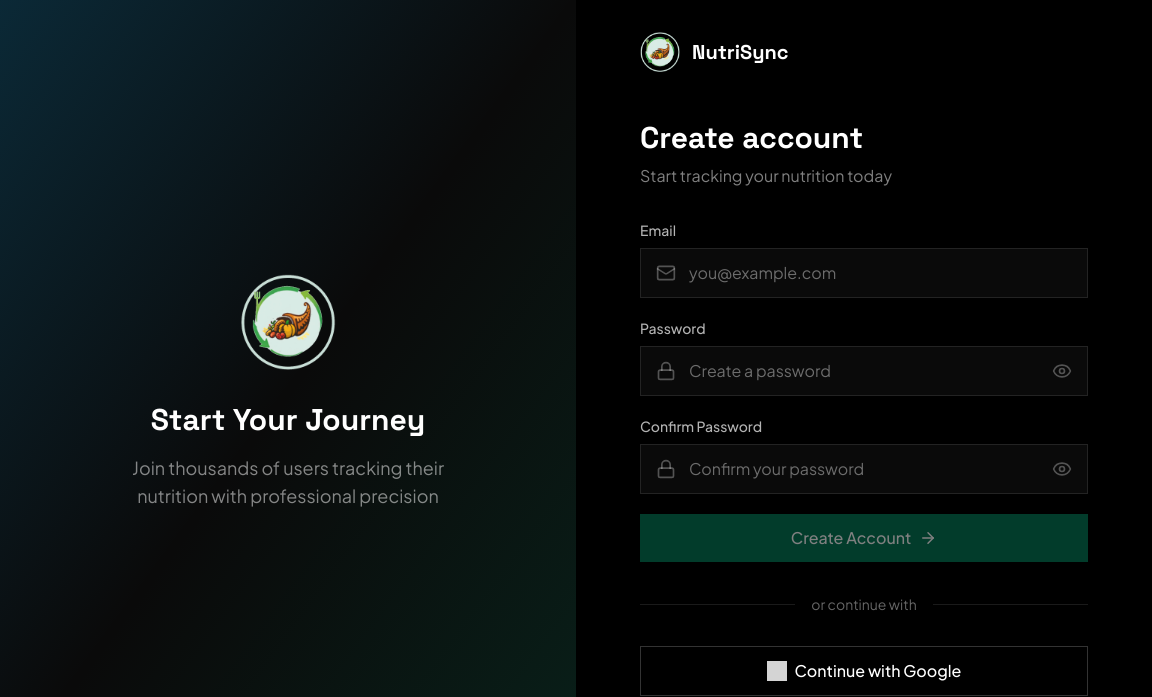
Scenario: Register › handles successful registration
In the field with placeholder "you@example.com": coordinates (864, 273) [640,248,1088,298], type "test@example.com"
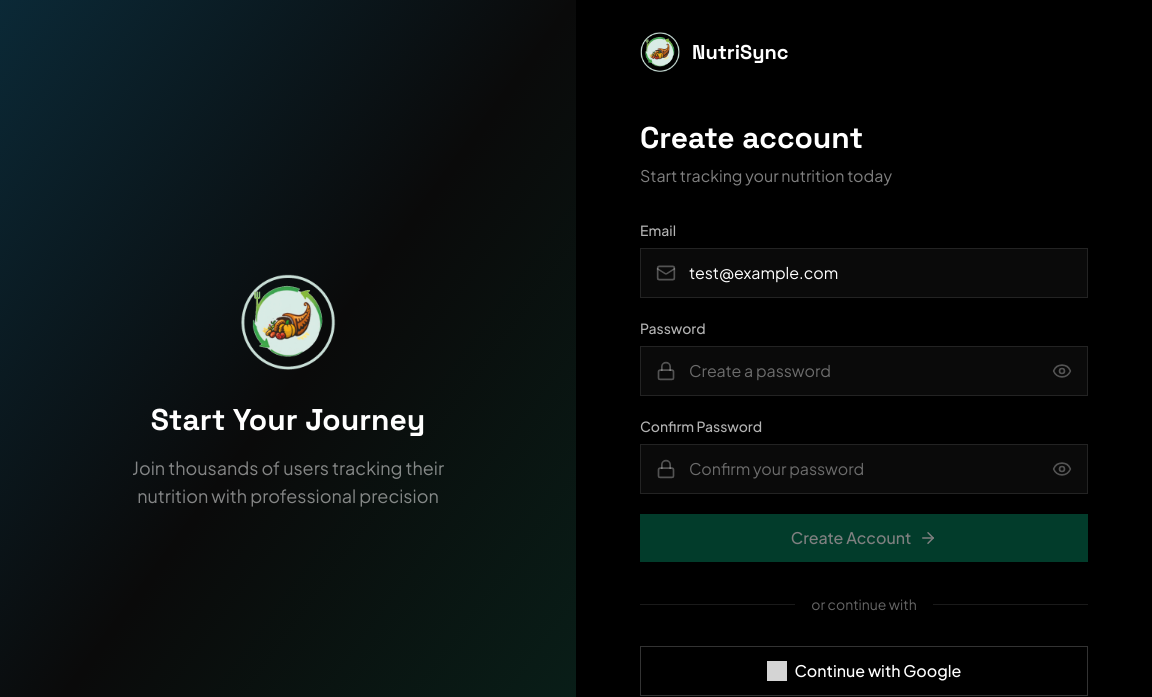
In the password field with placeholder "Create a password": coordinates (864, 371) [640,346,1088,396], type "ValidPass123!"
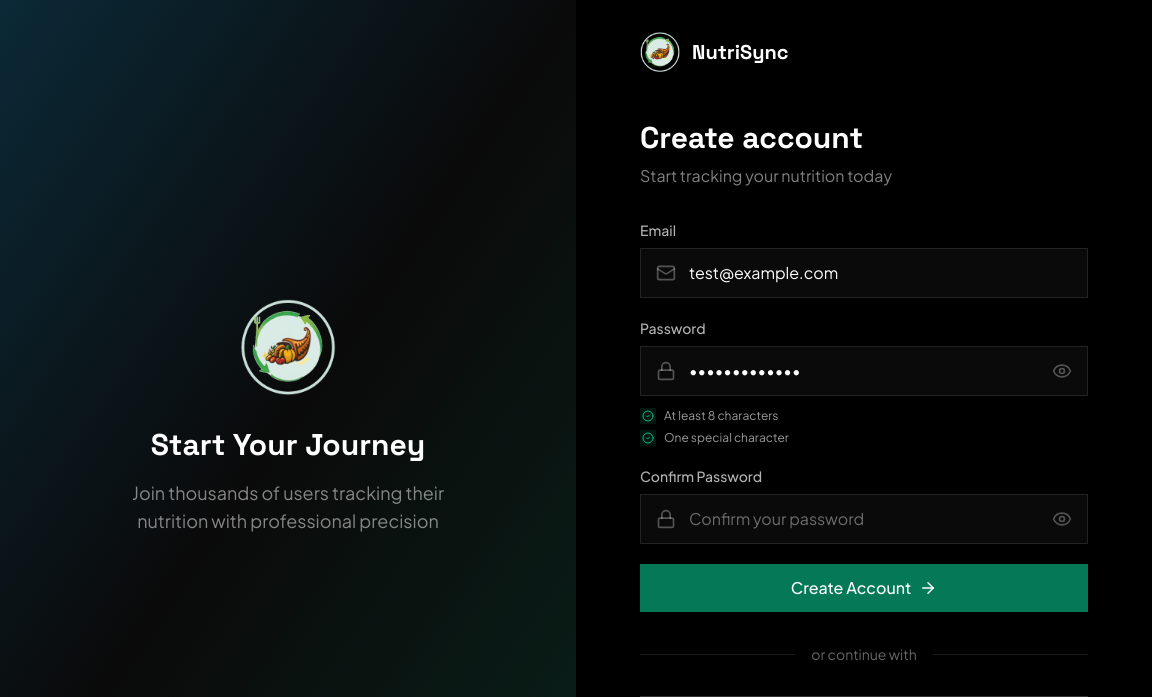
In the password field with placeholder "Confirm your password": coordinates (864, 519) [640,494,1088,544], type "ValidPass123!"
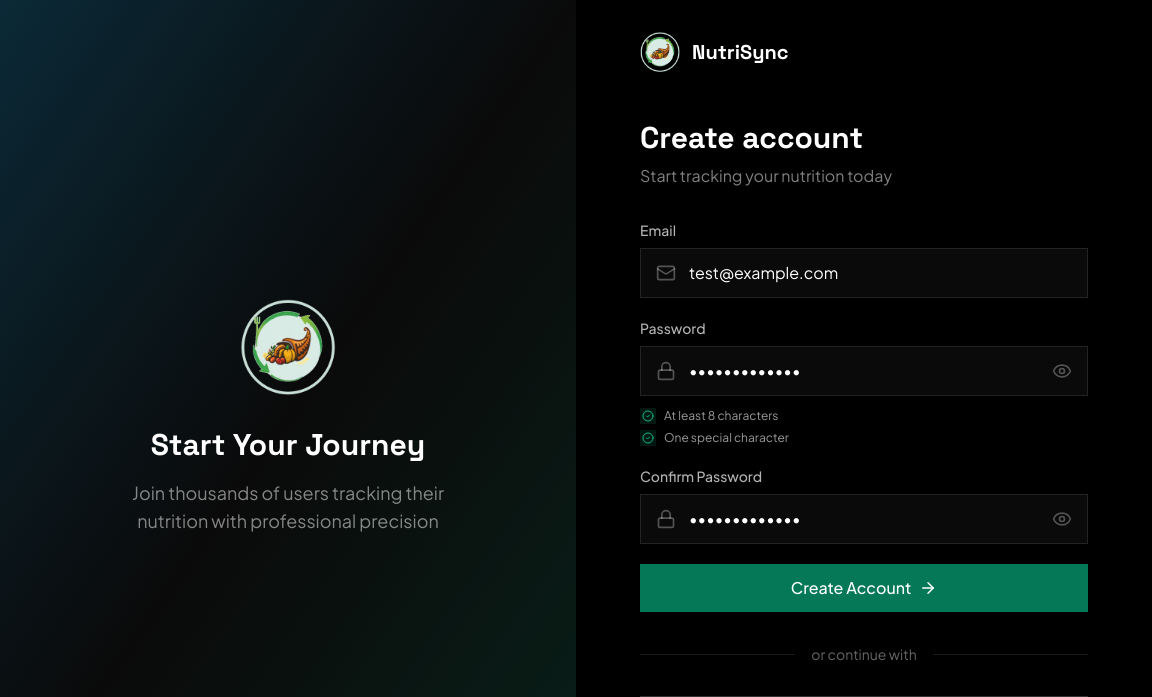
Click the button "Create Account": coordinates (864, 588) [640,564,1088,612]
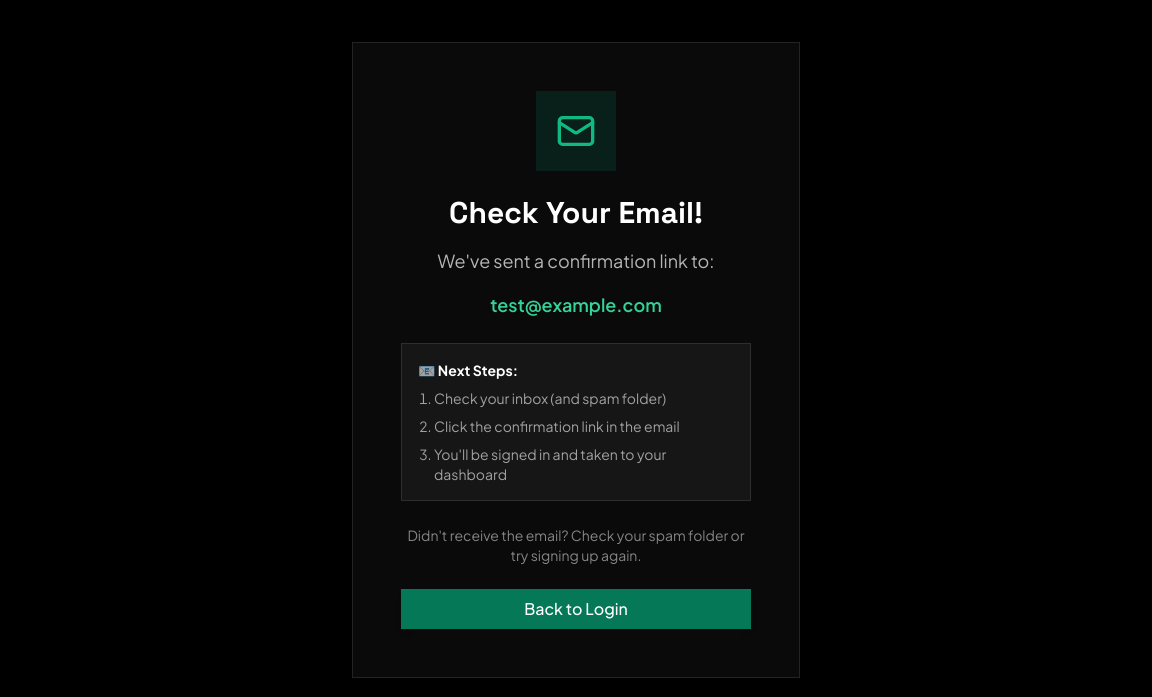
Now the heading "Check Your Email!" is shown, box [449,193,703,232]
Now the text "test@example.com" is shown, box [490,293,662,316]
